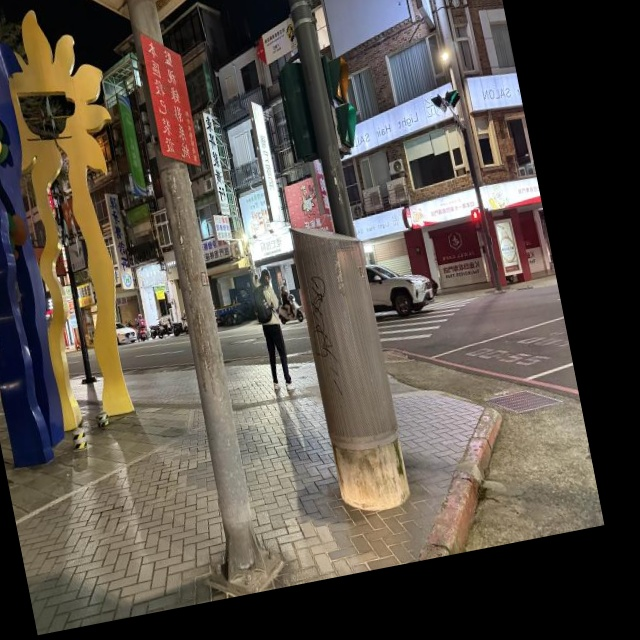Sin_Casco_Mascarrilla: (258, 268, 271, 285)
